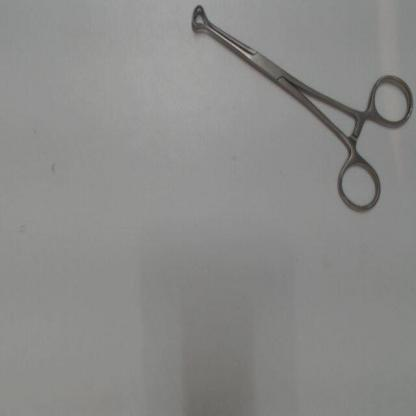Babcock Tissue Forceps: (187, 1, 414, 217)
